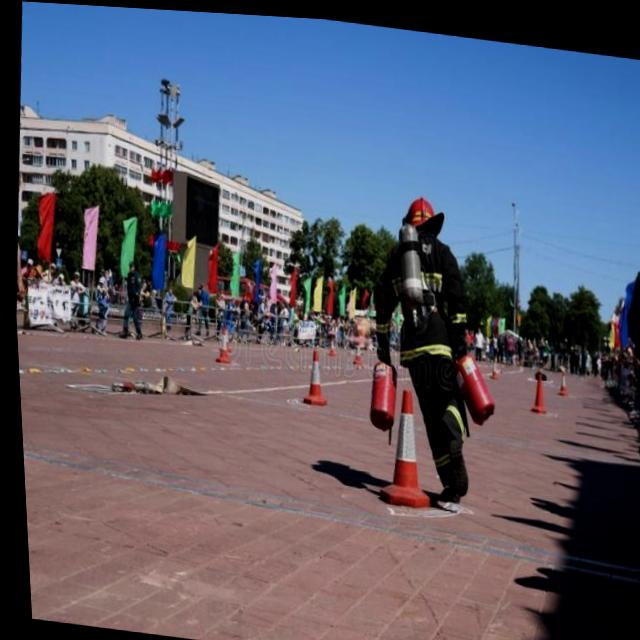FireExtinguisher: (439, 341, 495, 436), (355, 346, 403, 443)
